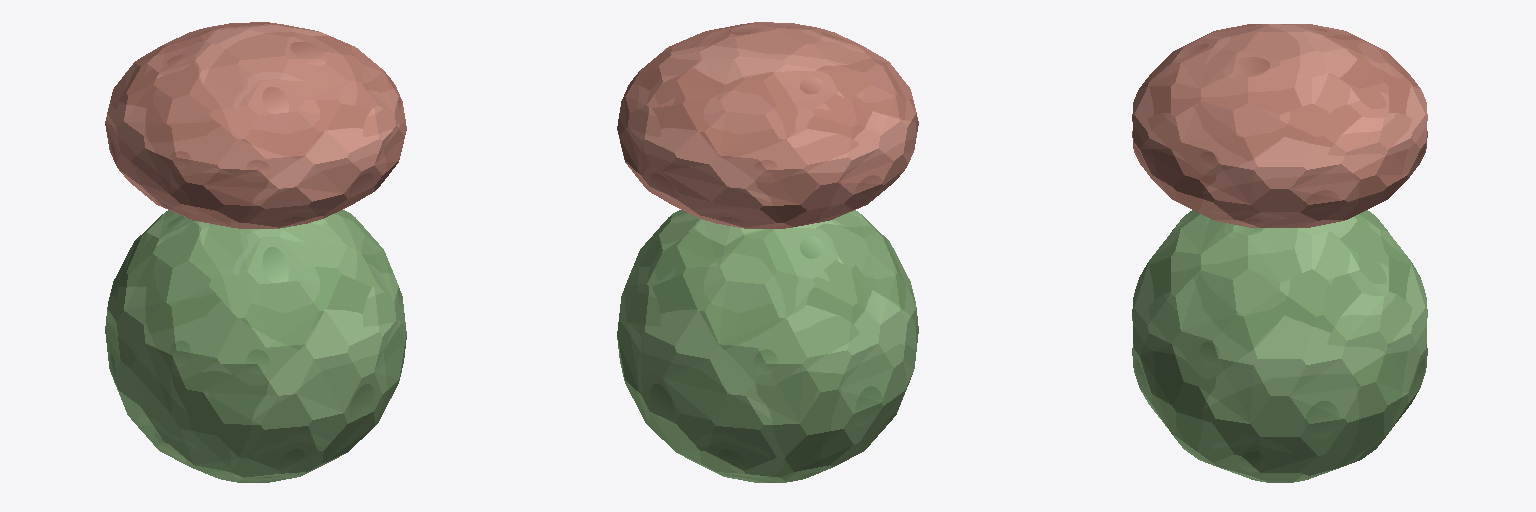
3 renders of one model, left to right at view 1: azimuth 30°, elevation 25°; view 2: azimuth 150°, elevation 25°; view 3: azimuth 270°, elevation 25°, orthographic.
Parts seen in each view (by area): view 1: Icosphere, Icosphere.001; view 2: Icosphere, Icosphere.001; view 3: Icosphere, Icosphere.001.
Part boxes in pixels (left/top/right/bottom): Icosphere: left=105, top=210, right=406, bottom=482; Icosphere.001: left=105, top=22, right=406, bottom=228; Icosphere: left=617, top=210, right=918, bottom=482; Icosphere.001: left=617, top=22, right=918, bottom=228; Icosphere: left=1132, top=210, right=1427, bottom=482; Icosphere.001: left=1132, top=24, right=1427, bottom=227.
Bounding box in the file's own units: 2.38 × 3.66 × 2.33.
2 materials, 2 textured.